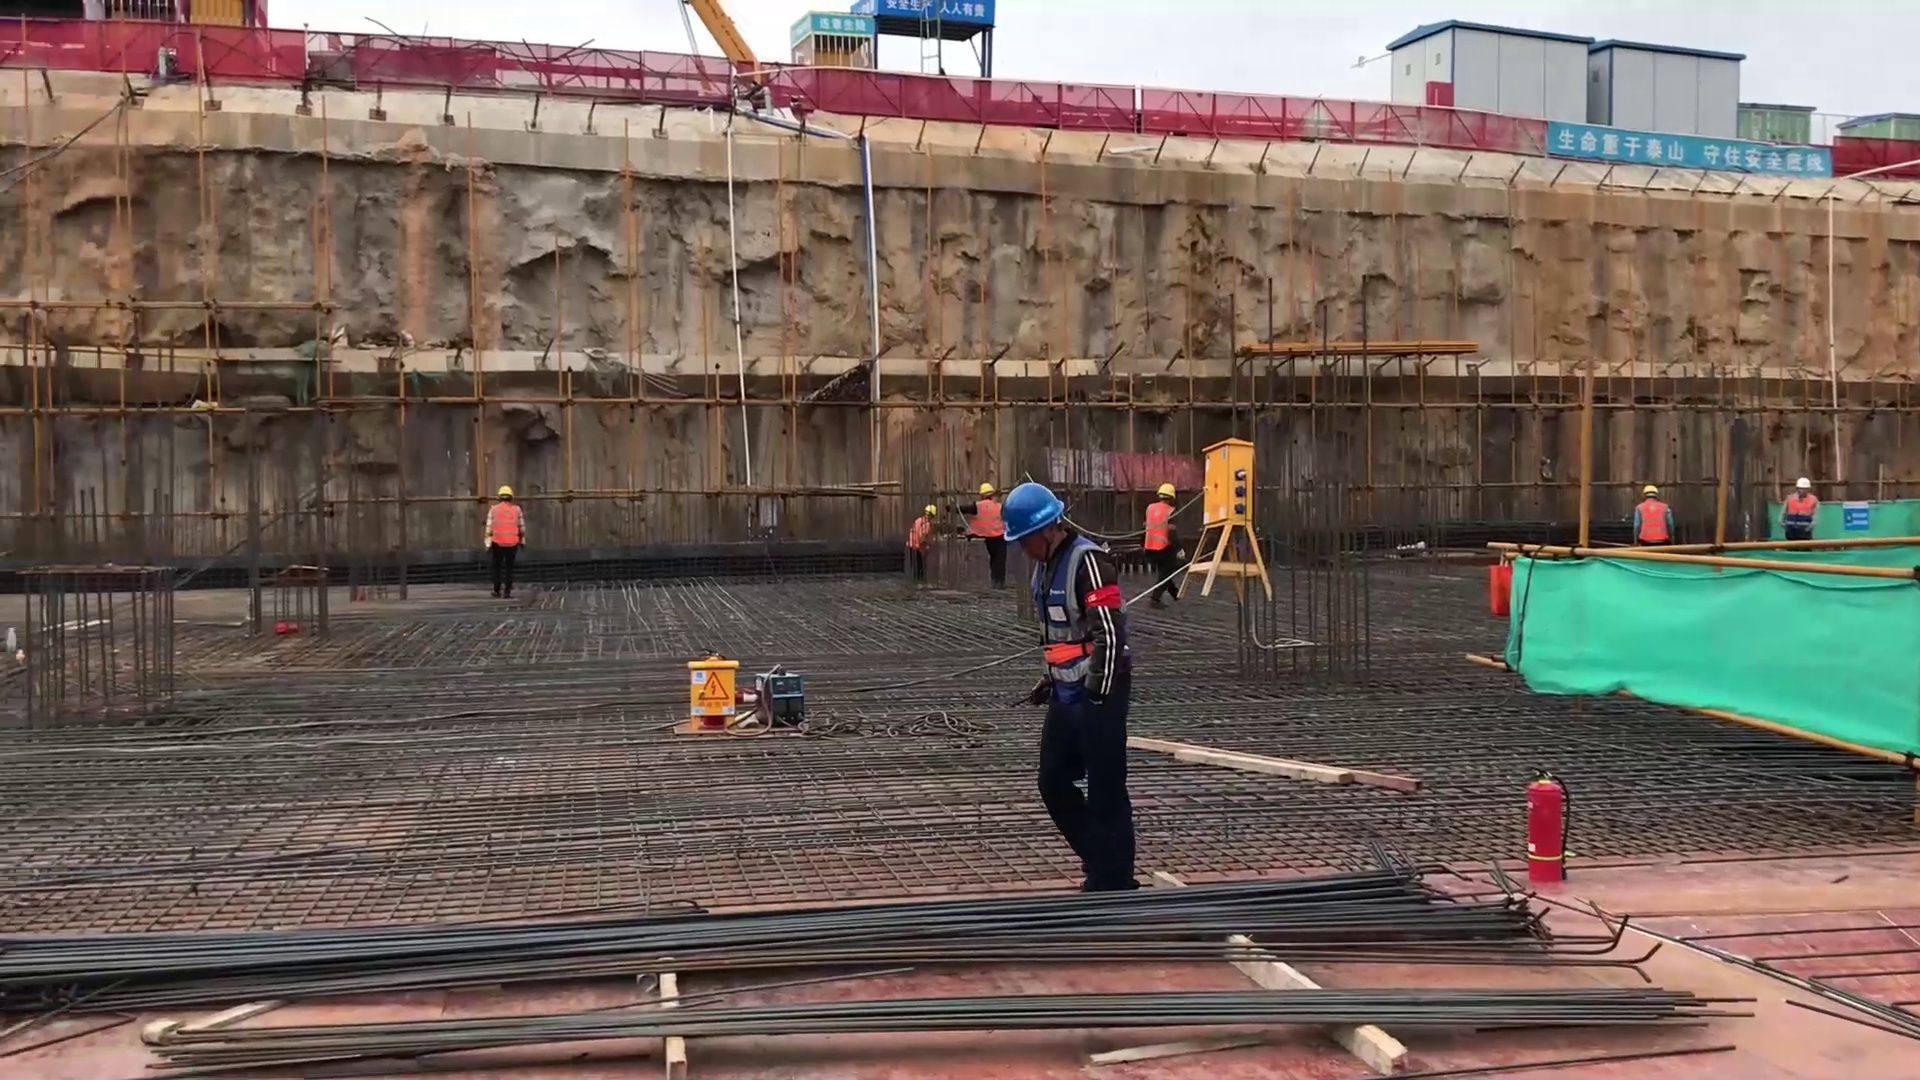helmet: (1005, 485, 1067, 550), (973, 479, 1009, 511), (1154, 476, 1181, 510), (911, 495, 942, 523), (489, 472, 524, 493), (1792, 476, 1815, 495), (1640, 483, 1664, 500)
person: (1004, 479, 1152, 896), (1142, 480, 1183, 611), (481, 480, 524, 603), (962, 481, 1008, 589), (1778, 476, 1820, 561), (1628, 481, 1677, 553), (900, 501, 939, 583)
vest: (1027, 540, 1134, 703), (1141, 503, 1179, 560), (484, 501, 525, 550), (1635, 496, 1672, 544), (967, 498, 1002, 537), (1785, 492, 1818, 533)
